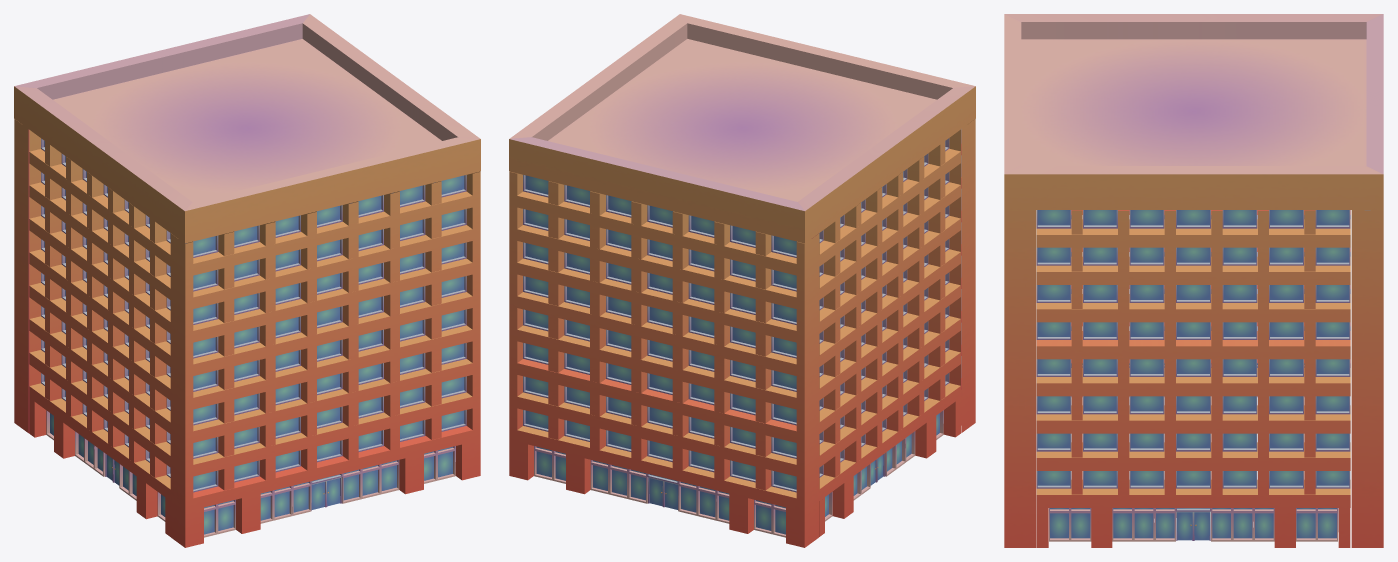
3 views of the same model, side by side, from view 1: azimuth 30°, elevation 25°; view 2: azimuth 150°, elevation 25°; view 3: azimuth 270°, elevation 25° (orthographic). The views are drawn at different scales.
Parts seen in each view (by area): view 1: SM_9FS_02; view 2: SM_9FS_02; view 3: SM_9FS_02.
Part boxes in pixels (x1,y1,x2,y2): SM_9FS_02: [14, 14, 480, 547]; SM_9FS_02: [509, 14, 975, 547]; SM_9FS_02: [1004, 14, 1383, 547].
Size of the model in its own units: 28.05 by 28.05 by 30.51.
